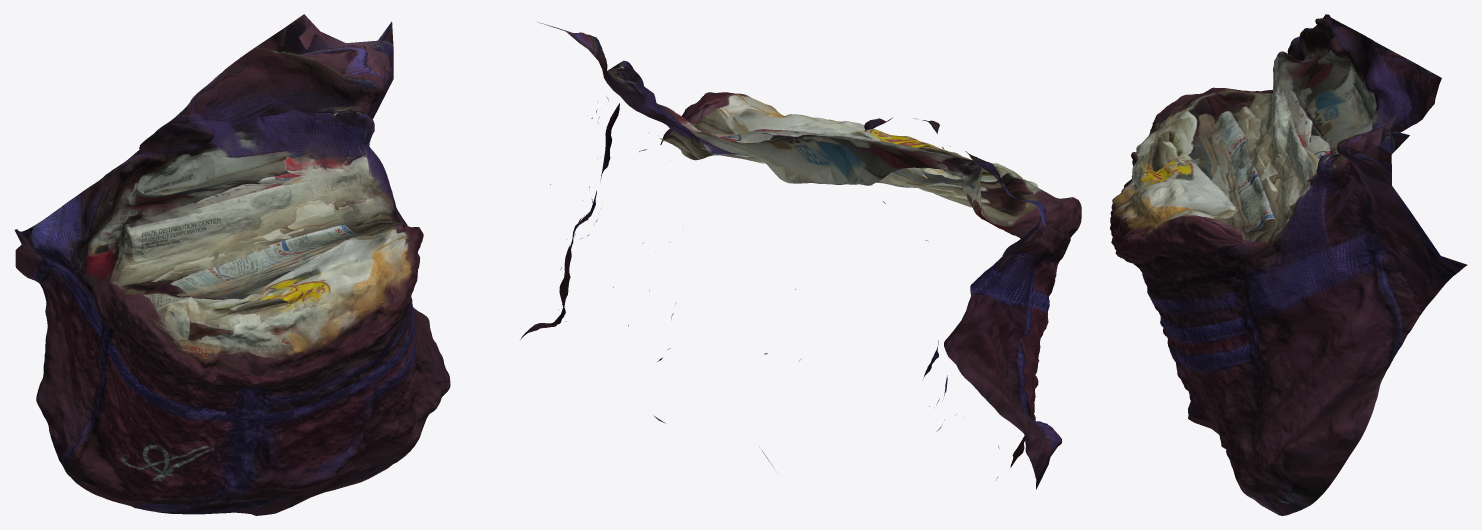
Rendered from Lizzy-testbag-obj.gltf.
3 renders of one model, left to right at view 1: azimuth 30°, elevation 25°; view 2: azimuth 150°, elevation 25°; view 3: azimuth 270°, elevation 25°, orthographic. The views are drawn at different scales.
Visible parts, largest first — view 1: Node; view 2: Node; view 3: Node.
Boxes of the visible parts, <box> form: Node: <box>14,14,450,515</box>; Node: <box>520,22,1081,489</box>; Node: <box>1110,14,1467,515</box>.
Size of the model in its own units: 2.69 by 2.64 by 1.91.
1 material, 1 textured.
